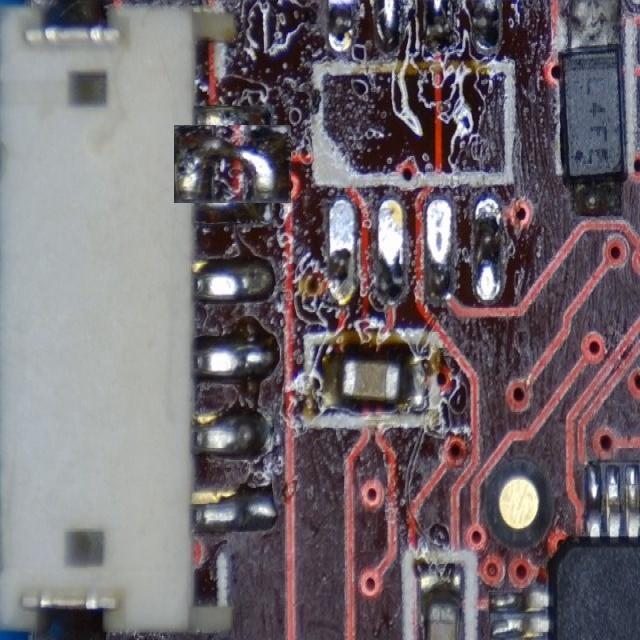Short_circuit: (174, 125, 290, 202)
